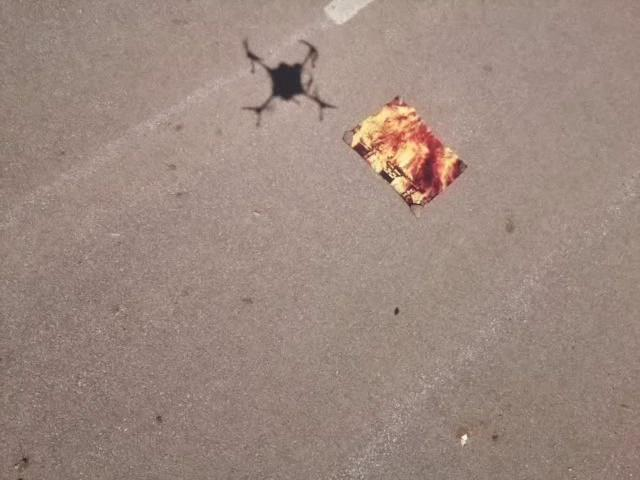fire-poster: (341, 92, 468, 217)
